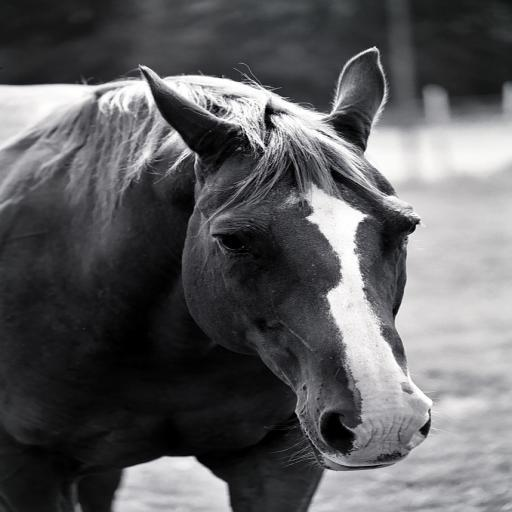horse: (0, 45, 463, 512)
